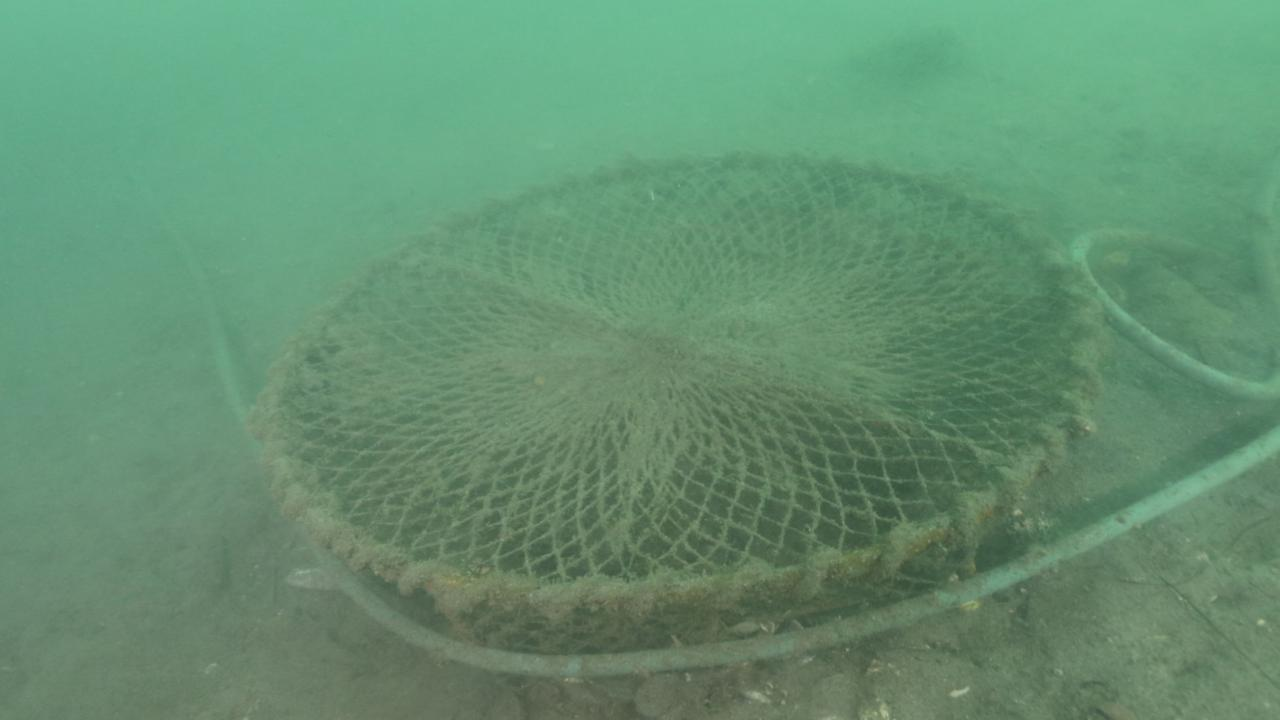circular fish trap: (259, 146, 1101, 657)
